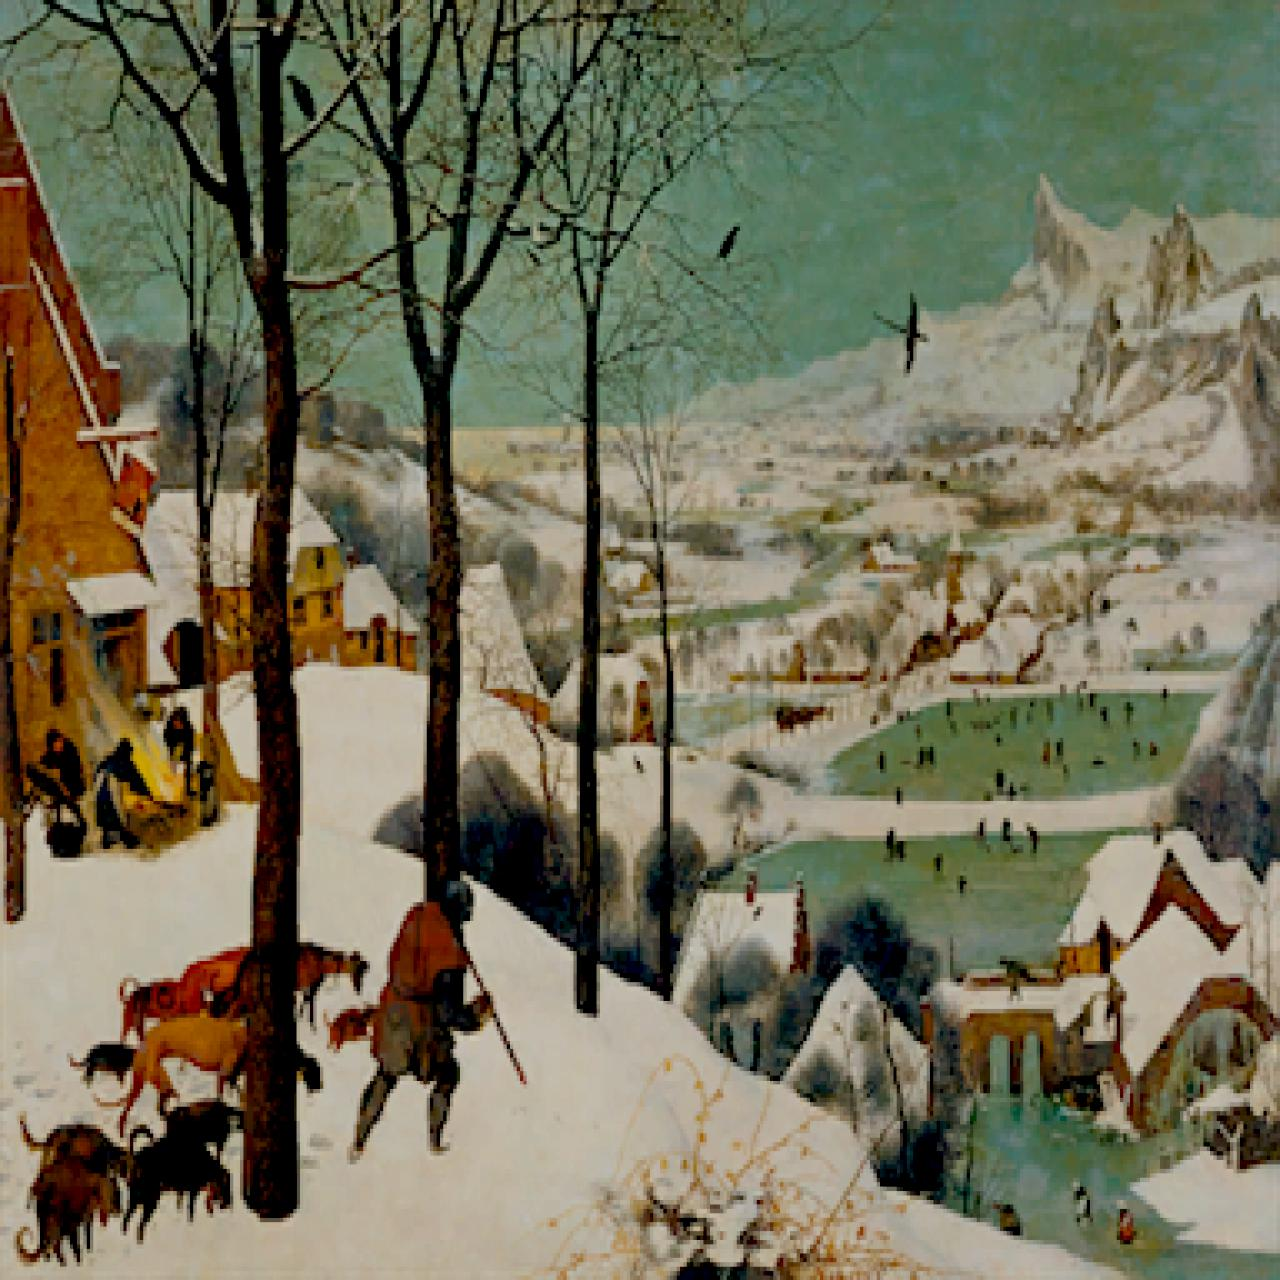HunterSnowFake: (1, 1, 1278, 1276)
